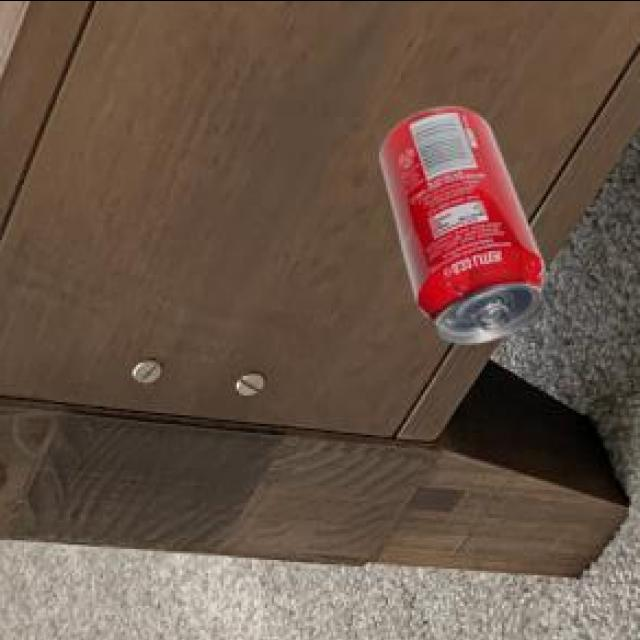logam: (376, 102, 540, 339)
